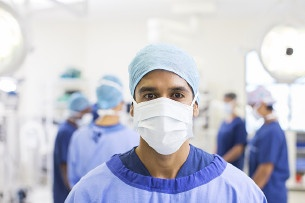Mask: (132, 83, 200, 150)
